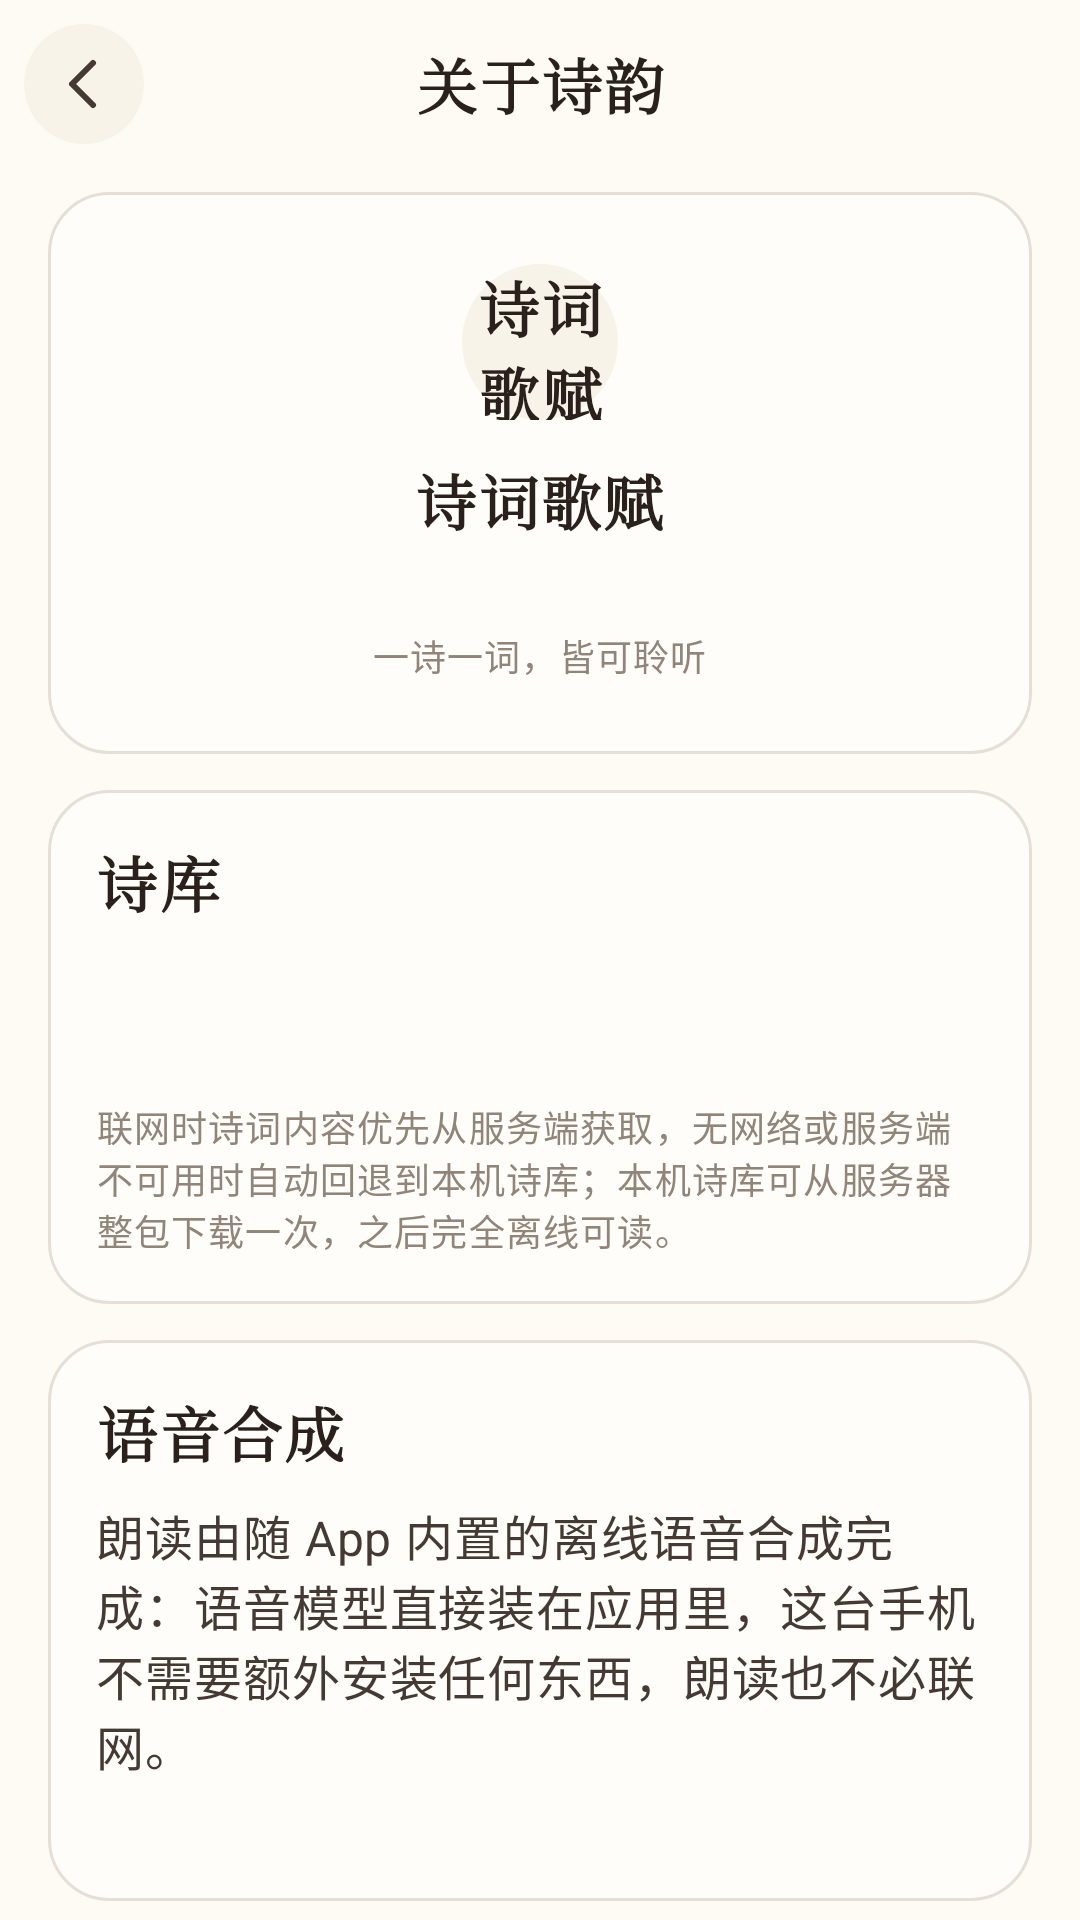

Screen size 1080*1920. Icon name, then its center in pixels as point (x, y):
返回: point (84, 84)
